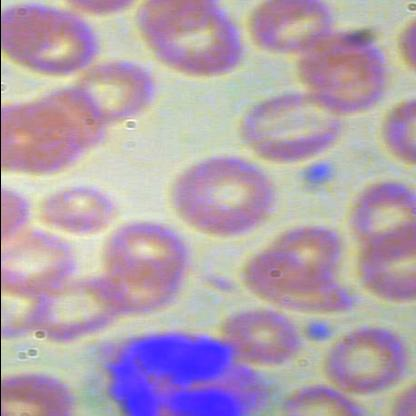Platelets: (300, 157, 336, 190), (302, 316, 330, 344)
